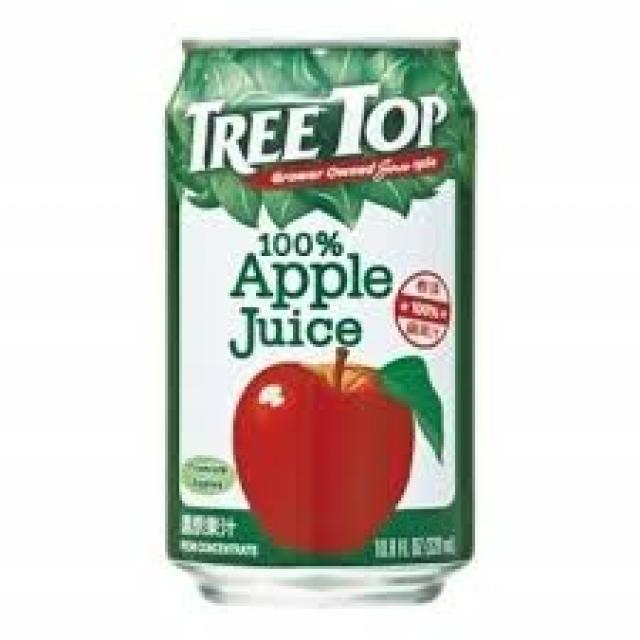recyclable: (163, 40, 475, 602)
